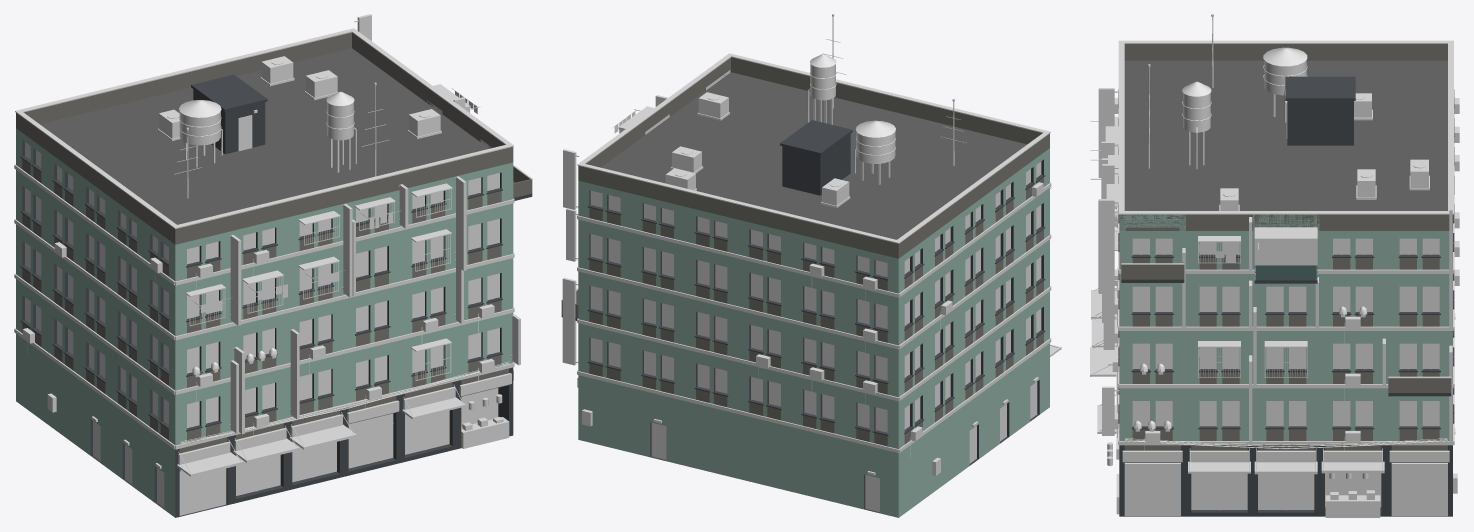
The model's file is Plaza_Block_09.fbx.
3 views of the same model, side by side, from view 1: azimuth 30°, elevation 25°; view 2: azimuth 150°, elevation 25°; view 3: azimuth 270°, elevation 25° (orthographic). The views are drawn at different scales.
Visible parts, largest first — view 1: Plaza_Block_09_LOD0; view 2: Plaza_Block_09_LOD0; view 3: Plaza_Block_09_LOD0.
Part boxes in pixels (x1=…): Plaza_Block_09_LOD0: x1=14, y1=14, x2=532, y2=517; Plaza_Block_09_LOD0: x1=561, y1=14, x2=1061, y2=517; Plaza_Block_09_LOD0: x1=1090, y1=14, x2=1459, y2=517.
Size of what is drawn, in the model's own units: 24.56 by 23.16 by 19.95.
